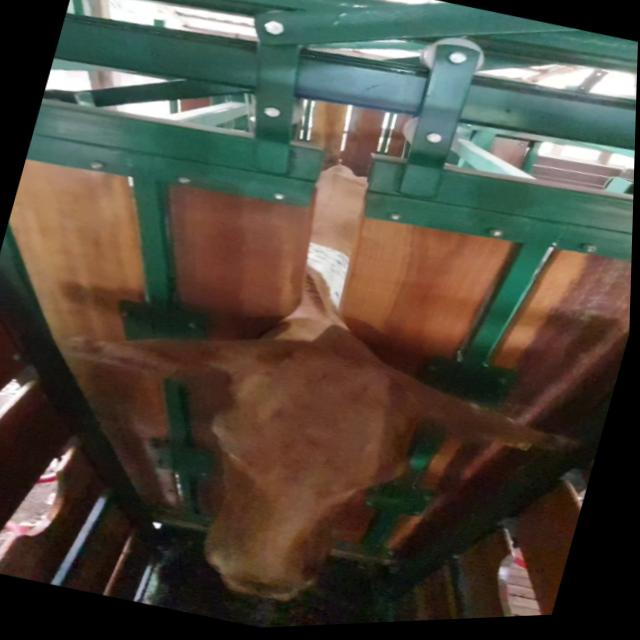cowFace: (178, 334, 440, 633)
